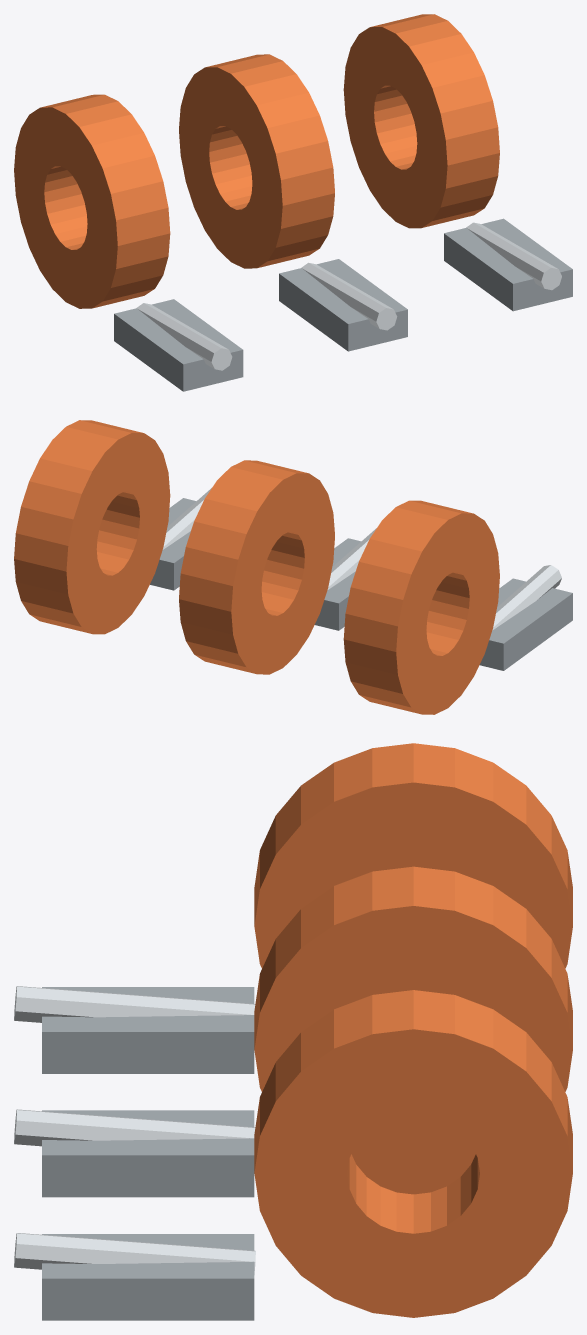
Rendered from long-haul-trucking-and-truck-stop-load-straps-ratchets-4ed8cf10__13985.glb.
3 renders of one model, top to bottom at view 1: azimuth 30°, elevation 25°; view 2: azimuth 150°, elevation 25°; view 3: azimuth 270°, elevation 25°, orthographic. The views are drawn at different scales.
Visible parts, largest first — view 1: load-straps-ratchets; view 2: load-straps-ratchets; view 3: load-straps-ratchets.
Boxes of the visible parts, x1,y1,x2,y2 form: load-straps-ratchets: (14,14,572,391); load-straps-ratchets: (14,420,572,714); load-straps-ratchets: (14,743,572,1320).
Bounding box in the file's own units: 0.52 × 0.24 × 0.4212.
